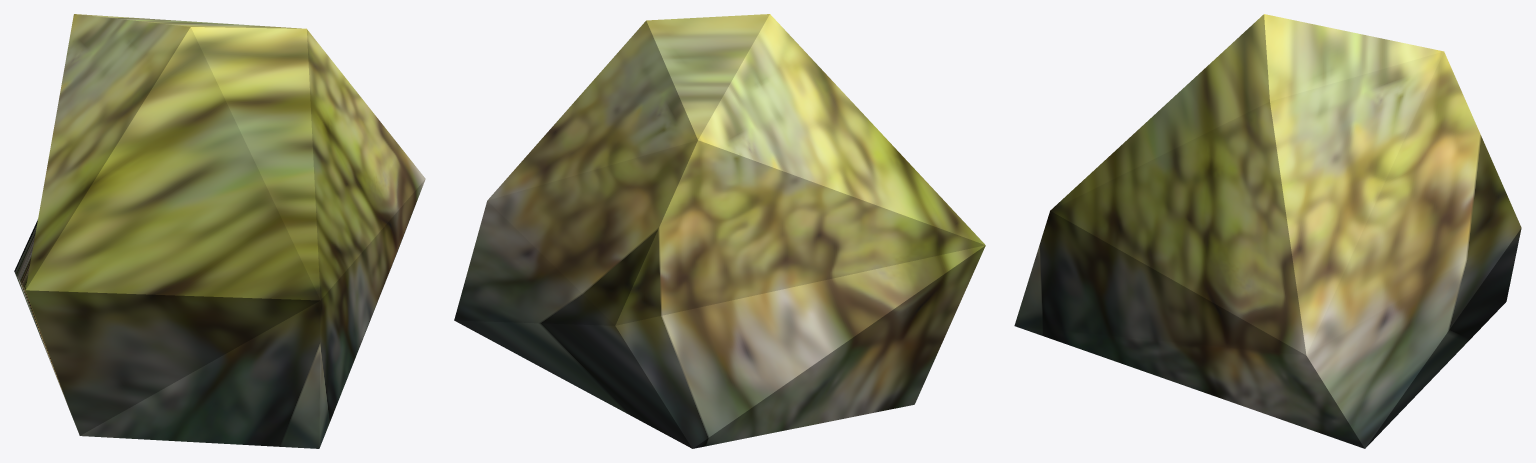
Rendered from Ridge_1_Rock.gltf.
3 renders of one model, left to right at view 1: azimuth 30°, elevation 25°; view 2: azimuth 150°, elevation 25°; view 3: azimuth 270°, elevation 25°, orthographic. The views are drawn at different scales.
Parts seen in each view (by area): view 1: Ridge_1_Rock; view 2: Ridge_1_Rock; view 3: Ridge_1_Rock.
Boxes of the visible parts, box(x1,y1,x2,y2) form: Ridge_1_Rock: box(14, 14, 425, 448); Ridge_1_Rock: box(454, 14, 985, 448); Ridge_1_Rock: box(1014, 14, 1521, 448).
Size of the model in its own units: 7.16 by 5.6 by 7.32.
Materials: 1 (1 with a texture image).
